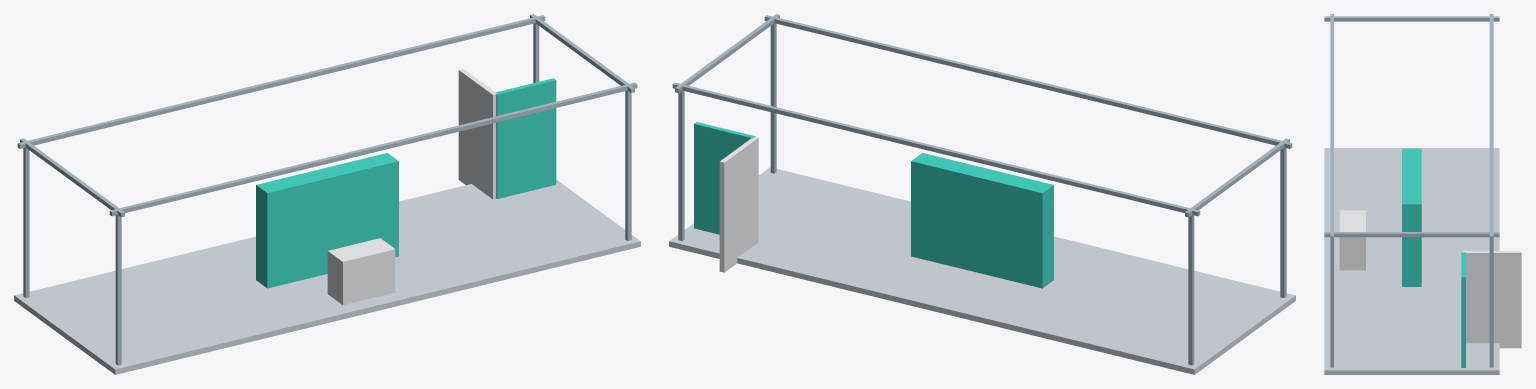
3 views of the same model, side by side, from view 1: azimuth 30°, elevation 25°; view 2: azimuth 150°, elevation 25°; view 3: azimuth 270°, elevation 25° (orthographic). The views are drawn at different scales.
Parts seen in each view (by area): view 1: Exhibition Booth Concept; view 2: Exhibition Booth Concept; view 3: Exhibition Booth Concept.
Part boxes in pixels (x1,y1,x2,y2): Exhibition Booth Concept: [14, 14, 640, 374]; Exhibition Booth Concept: [669, 14, 1295, 374]; Exhibition Booth Concept: [1324, 14, 1521, 374].
Size of the model in its own units: 12 by 3.49 by 4.51.
